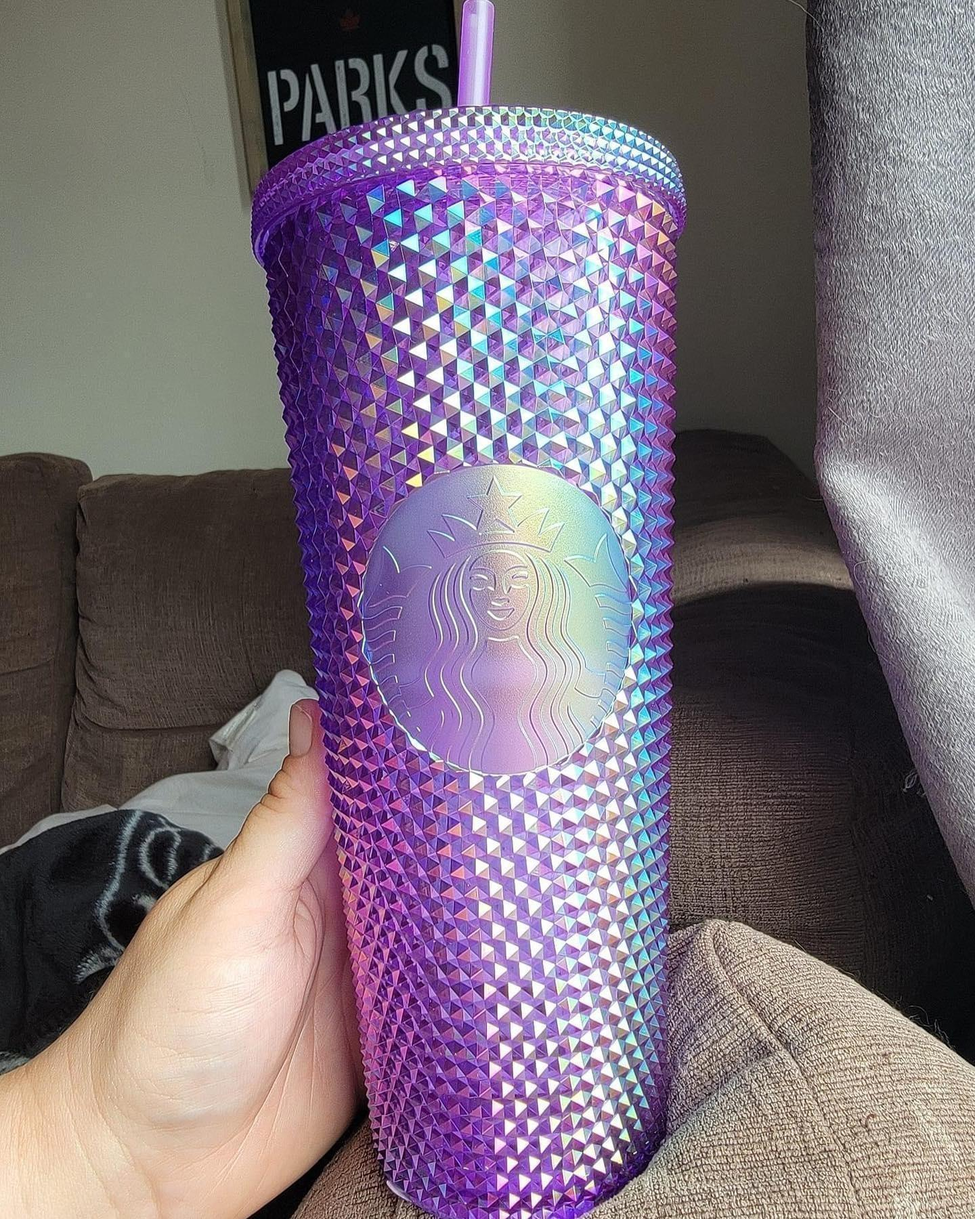cup-disposable: (244, 91, 689, 1219)
